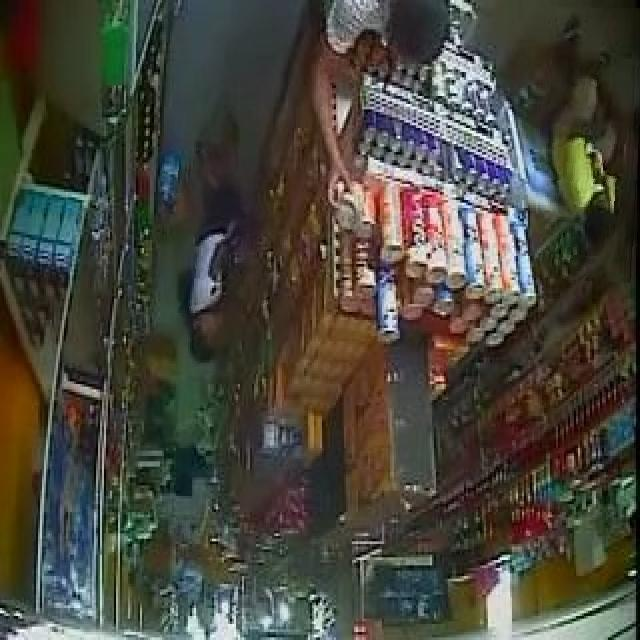normal: (165, 106, 273, 374), (536, 8, 640, 282)
